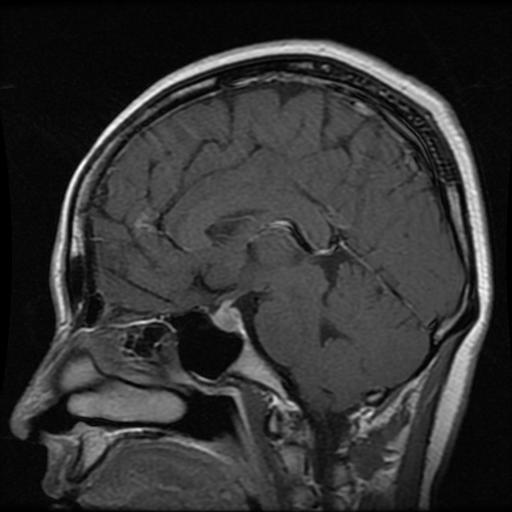Pituirity_tumour: (211, 300, 242, 331)
